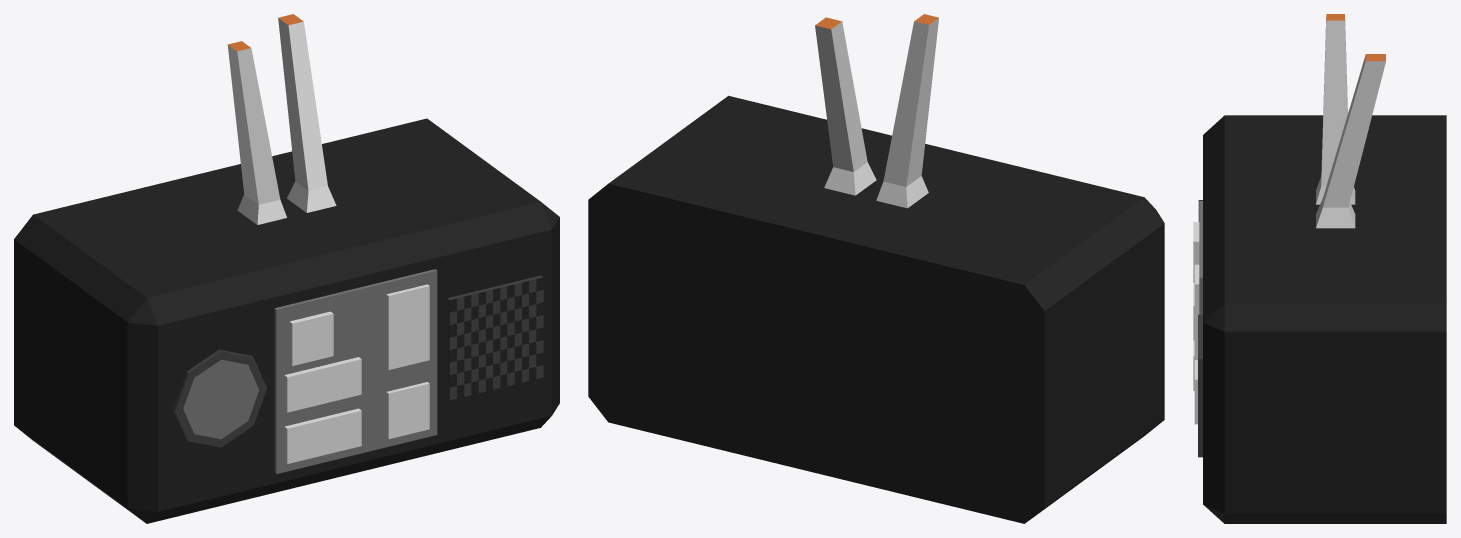
The model's file is Radio.fbx.
The picture shows the model from 3 angles, left to right: view 1: azimuth 30°, elevation 25°; view 2: azimuth 150°, elevation 25°; view 3: azimuth 270°, elevation 25°; orthographic projection. The views are drawn at different scales.
Visible parts, largest first — view 1: Radio; view 2: Radio; view 3: Radio.
Part boxes in pixels (bbox=[...]): Radio: bbox=[14, 14, 559, 523]; Radio: bbox=[588, 14, 1164, 523]; Radio: bbox=[1193, 14, 1446, 523].
Bounding box in the file's own units: 1.29 × 1.14 × 0.6706.
